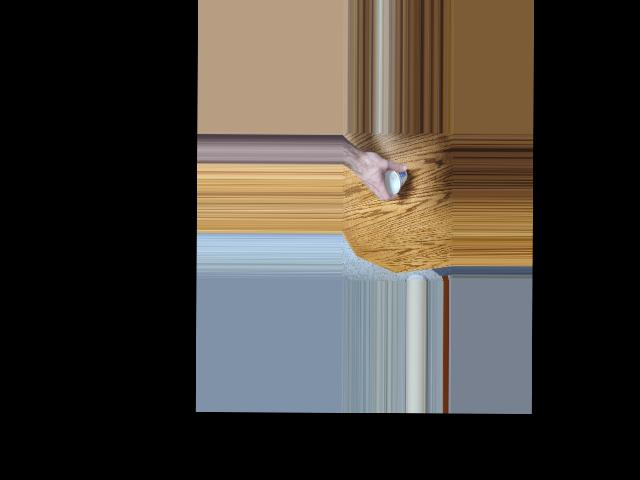cotage: (382, 161, 406, 194)
